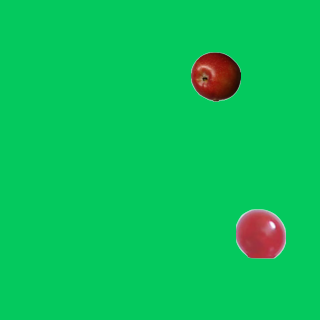Apple Braeburn: (190, 51, 240, 101)
Redcurrant: (235, 208, 285, 258)
